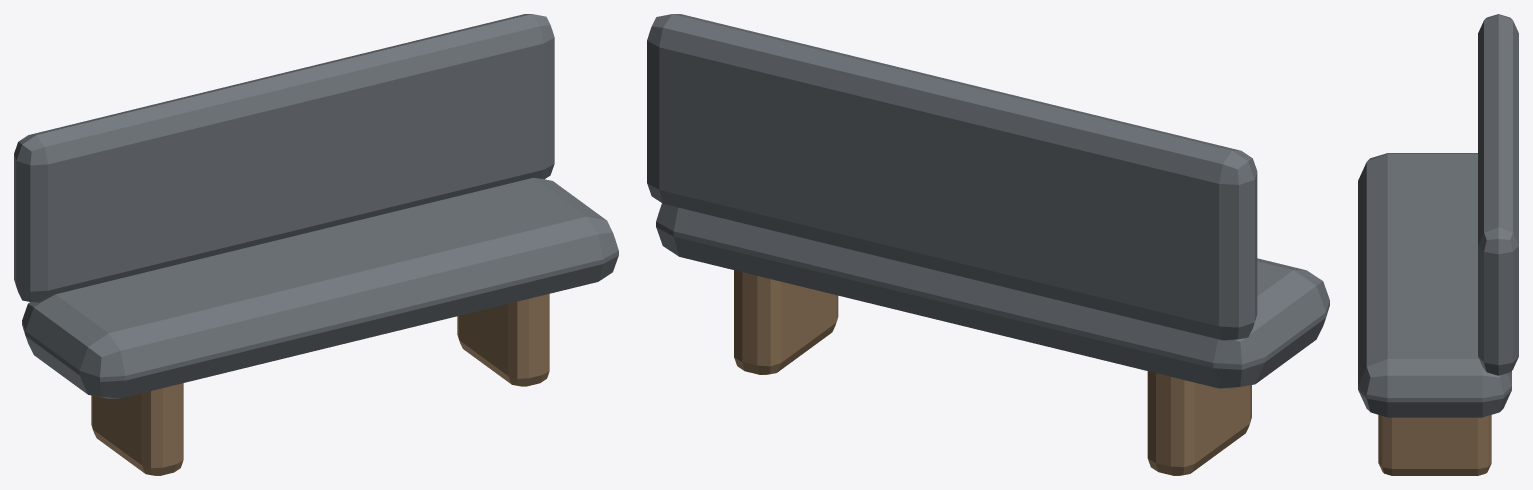
Rendered from bench_civic.83de855700a9.glb.
3 views of the same model, side by side, from view 1: azimuth 30°, elevation 25°; view 2: azimuth 150°, elevation 25°; view 3: azimuth 270°, elevation 25° (orthographic). The views are drawn at different scales.
Parts seen in each view (by area): view 1: LOD1_BENCH_CIVIC_Back, LOD1_BENCH_CIVIC_Seat, LOD1_BENCH_CIVIC_Leg, LOD1_BENCH_CIVIC_Leg.001; view 2: LOD1_BENCH_CIVIC_Back, LOD1_BENCH_CIVIC_Seat, LOD1_BENCH_CIVIC_Leg, LOD1_BENCH_CIVIC_Leg.001; view 3: LOD1_BENCH_CIVIC_Seat, LOD1_BENCH_CIVIC_Back, LOD1_BENCH_CIVIC_Leg.001.
Part boxes in pixels (x1,y1,x2,y2): LOD1_BENCH_CIVIC_Back: (14,14,554,302); LOD1_BENCH_CIVIC_Seat: (22,177,618,398); LOD1_BENCH_CIVIC_Leg: (91,383,183,475); LOD1_BENCH_CIVIC_Leg.001: (457,294,549,386); LOD1_BENCH_CIVIC_Back: (647,14,1257,340); LOD1_BENCH_CIVIC_Seat: (656,203,1329,388); LOD1_BENCH_CIVIC_Leg: (1147,371,1251,475); LOD1_BENCH_CIVIC_Leg.001: (734,270,838,374); LOD1_BENCH_CIVIC_Seat: (1358,153,1511,417); LOD1_BENCH_CIVIC_Back: (1478,14,1518,375); LOD1_BENCH_CIVIC_Leg.001: (1378,415,1491,475).
Size of what is drawn, in the model's own units: 2.4 by 1.33 by 0.71.
